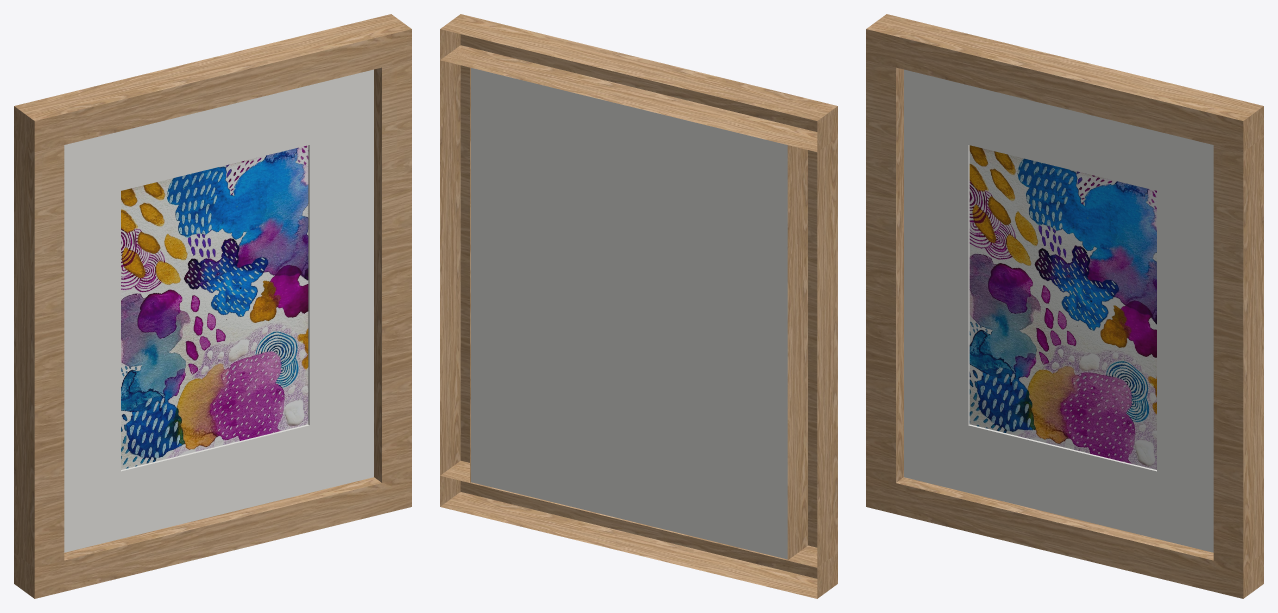
The model's file is purple-hues-rectangular.glb.
The picture shows the model from 3 angles, left to right: view 1: azimuth 30°, elevation 25°; view 2: azimuth 150°, elevation 25°; view 3: azimuth 330°, elevation 25°; orthographic projection.
Visible parts, largest first — view 1: framed-art; view 2: framed-art; view 3: framed-art.
Part boxes in pixels (x1,y1,x2,y2): framed-art: (14, 14, 411, 598); framed-art: (440, 14, 837, 598); framed-art: (866, 14, 1263, 598).
Bounding box in the file's own units: 0.2413 × 0.2921 × 0.0229.
3 materials, 3 textured.
